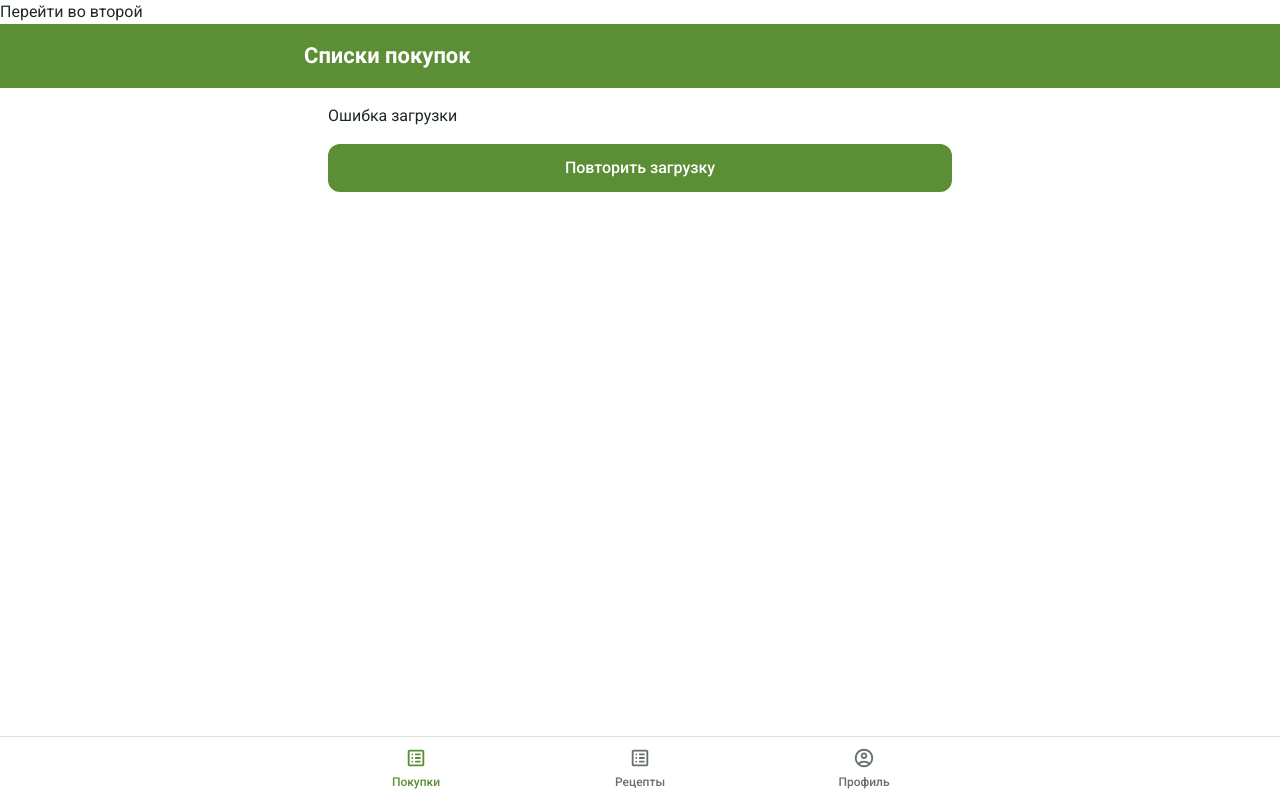
Страницы нескольких списков › ошибки загрузки и удаления списка видны; повтор не затрагивает другие списки
Expected: the message reads "Ошибка загрузки", x1=328 y1=106 x2=457 y2=125
Click the button "Повторить загрузку".
click(640, 168)  # box x1=328 y1=144 x2=952 y2=192
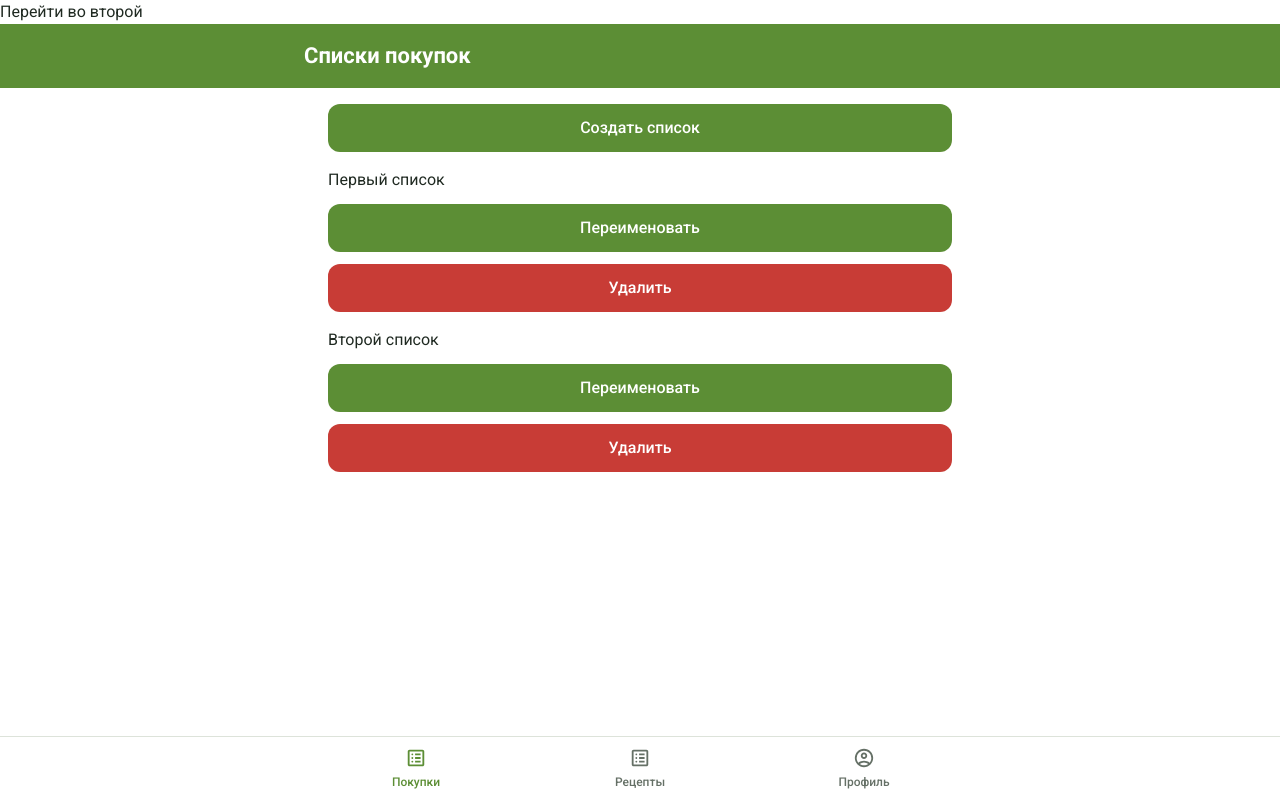
Result: the link "Первый список" is shown at x1=328 y1=170 x2=445 y2=189
Click the button with aria-label "Удалить список Первый список".
click(640, 288)  # box x1=328 y1=264 x2=952 y2=312
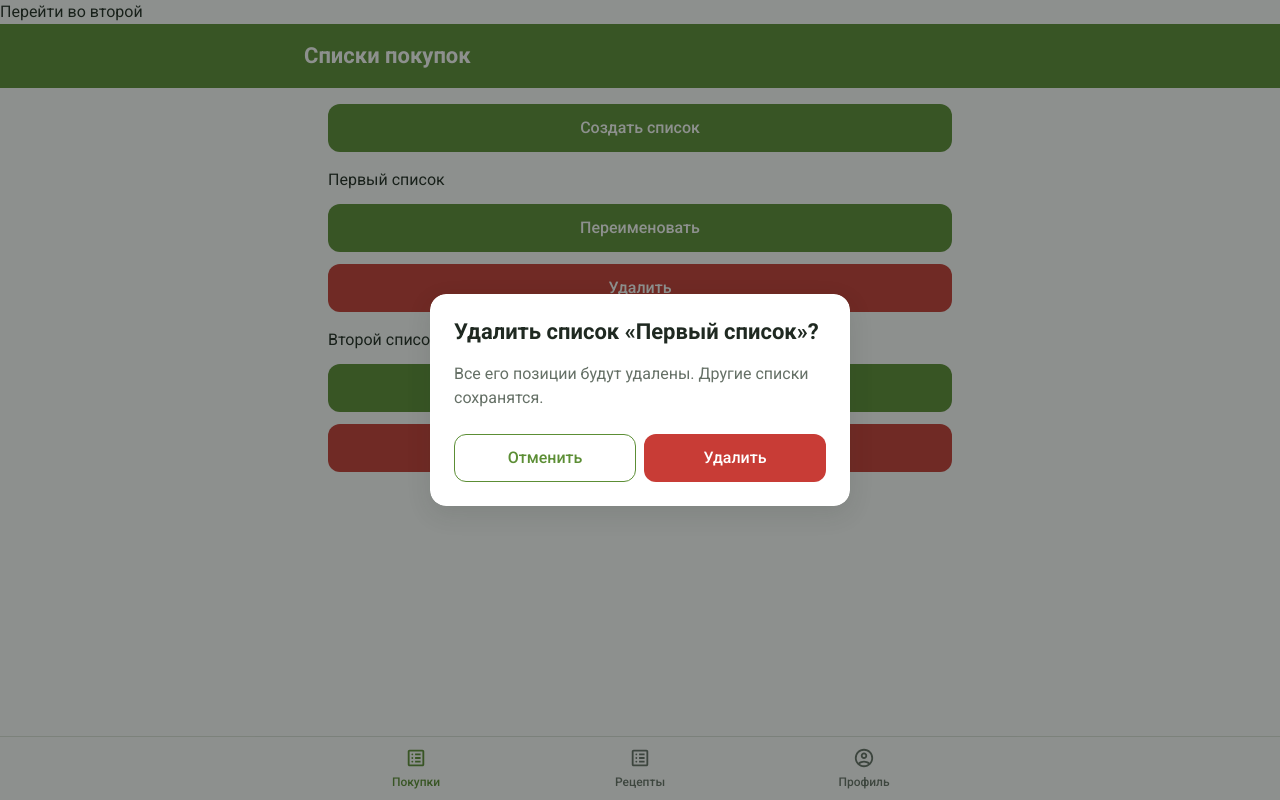
Click the button "Удалить".
click(735, 458)  # box x1=644 y1=434 x2=826 y2=482
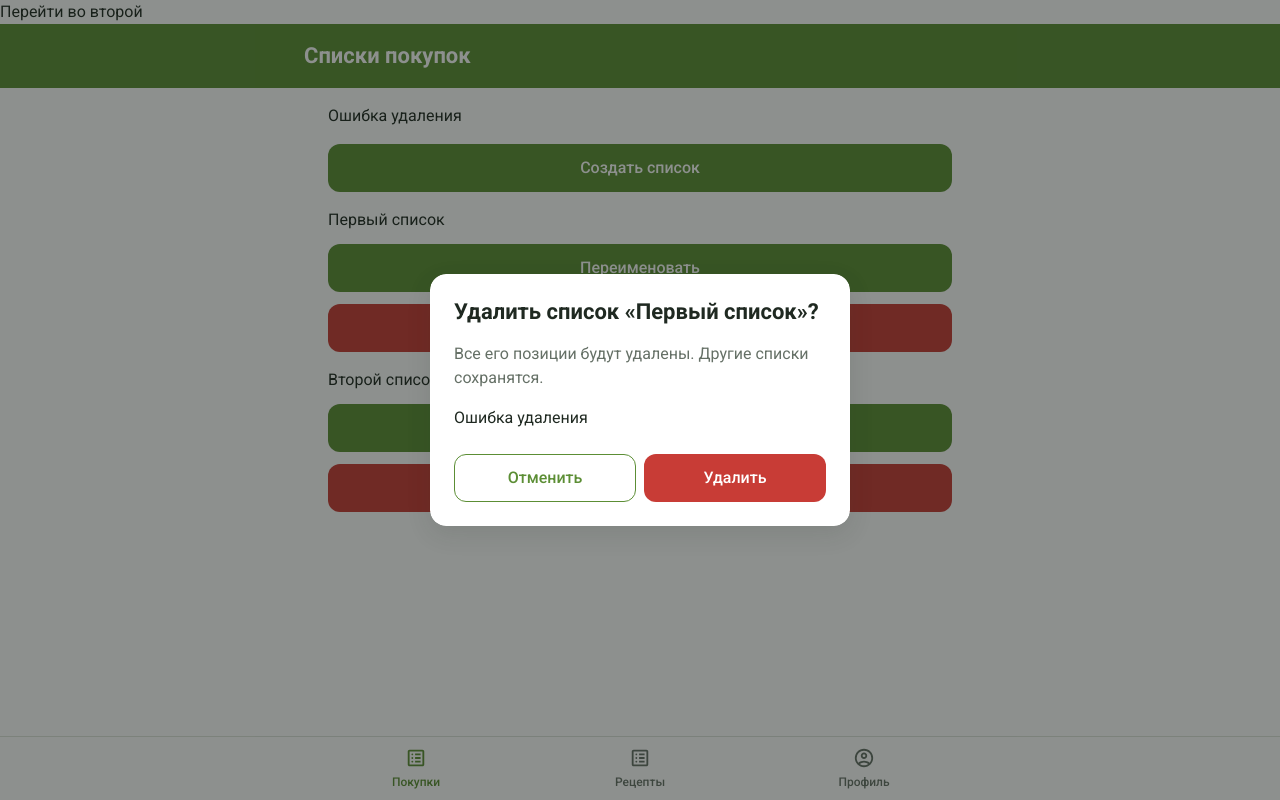
Result: the link "Первый список" is shown at x1=328 y1=210 x2=445 y2=229
Result: the message "Ошибка удаления" below "Удалить список «Первый список»?" is shown at x1=454 y1=408 x2=588 y2=427
Click the button "Удалить".
click(735, 478)  # box x1=644 y1=454 x2=826 y2=502
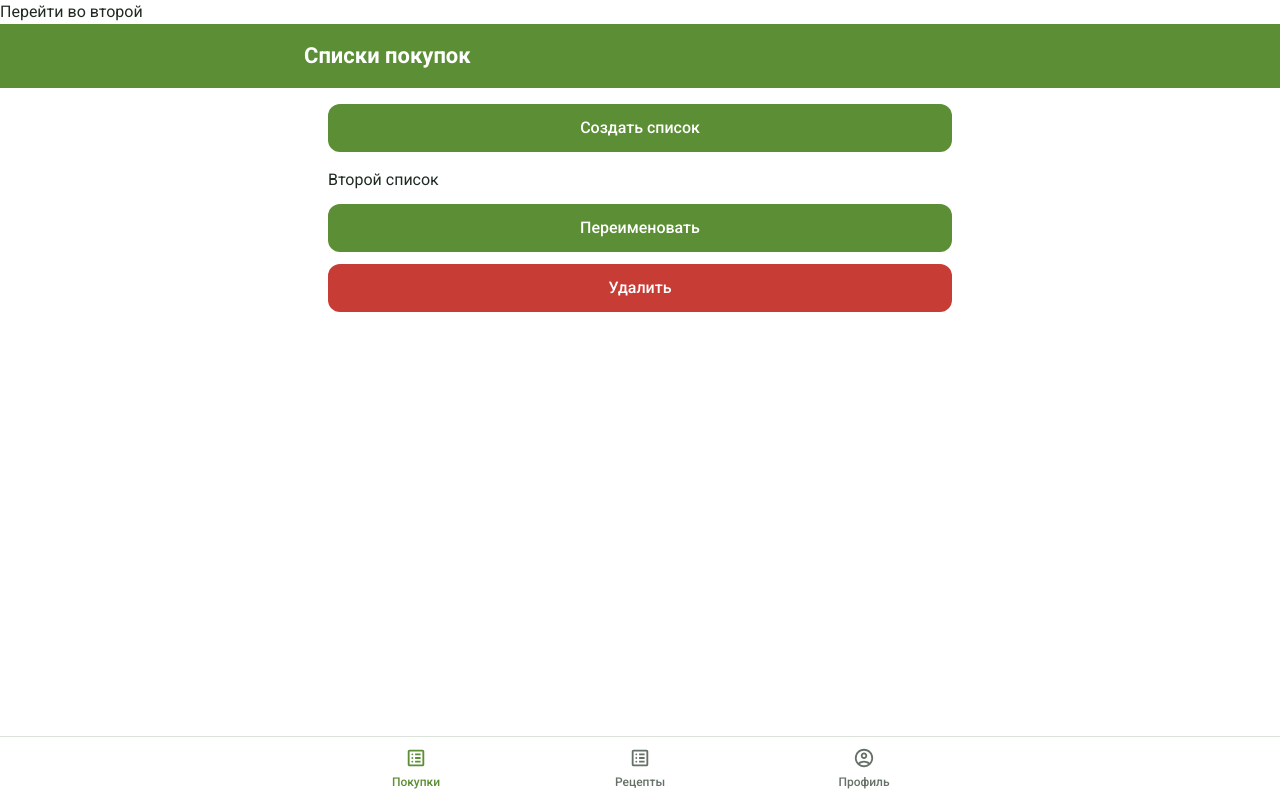
Result: the link "Второй список" is shown at x1=328 y1=170 x2=439 y2=189
Result: the dialog is gone
